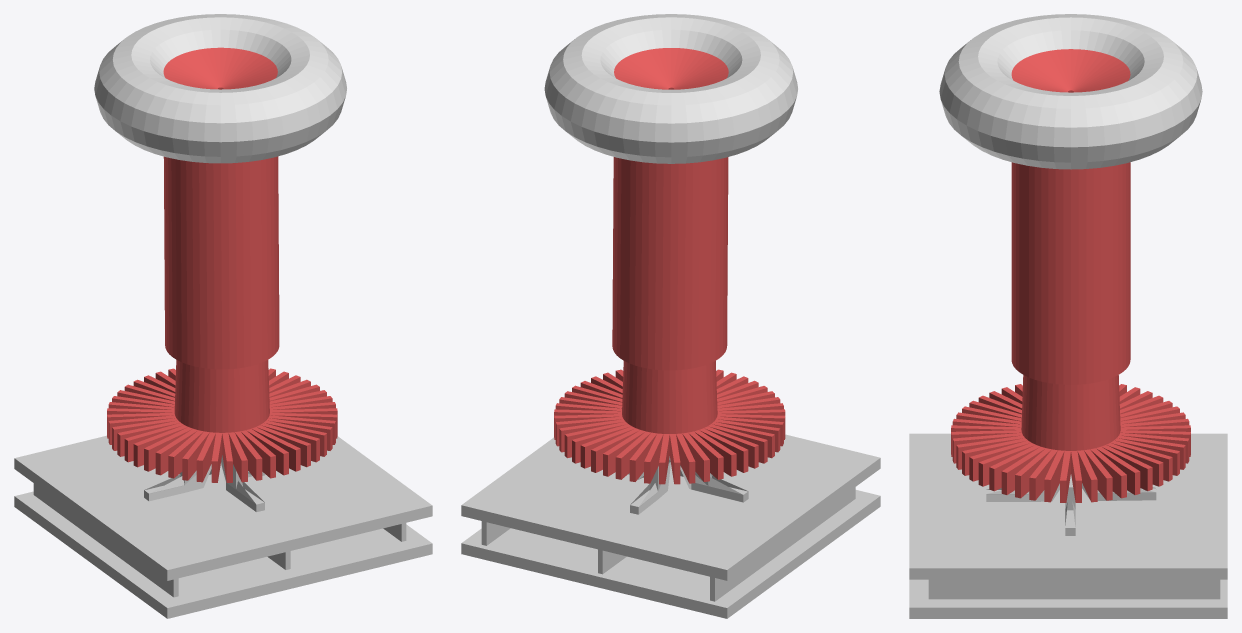
Rendered from Teslav4.fbx.
The picture shows the model from 3 angles, left to right: view 1: azimuth 30°, elevation 25°; view 2: azimuth 150°, elevation 25°; view 3: azimuth 270°, elevation 25°; orthographic projection. The views are drawn at different scales.
Parts seen in each view (by area): view 1: Torus, Plane, Plane.001, Cube.004, Cube.001, Cube.002; view 2: Torus, Plane, Plane.001, Cube.004, Cube.001, Cube; view 3: Torus, Plane, Plane.001, Cube.005, Cube.002, Cube.003, Cube.
Boxes of the visible parts, <box> form: Torus: <box>94,14,346,482</box>; Plane: <box>14,435,432,580</box>; Plane.001: <box>14,491,432,618</box>; Cube.004: <box>33,483,178,597</box>; Cube.001: <box>144,464,211,501</box>; Cube.002: <box>220,455,264,512</box>; Torus: <box>544,14,797,484</box>; Plane: <box>461,434,880,580</box>; Plane.001: <box>461,490,880,618</box>; Cube.004: <box>710,487,855,601</box>; Cube.001: <box>680,465,748,502</box>; Cube: <box>630,456,670,514</box>; Torus: <box>939,14,1202,502</box>; Plane: <box>909,433,1227,579</box>; Plane.001: <box>909,579,1227,618</box>; Cube.005: <box>928,579,1220,599</box>; Cube.002: <box>986,483,1059,501</box>; Cube.003: <box>1065,474,1075,535</box>; Cube: <box>1082,483,1156,500</box>.
Bounding box in the file's own units: 445 × 762 × 445.
